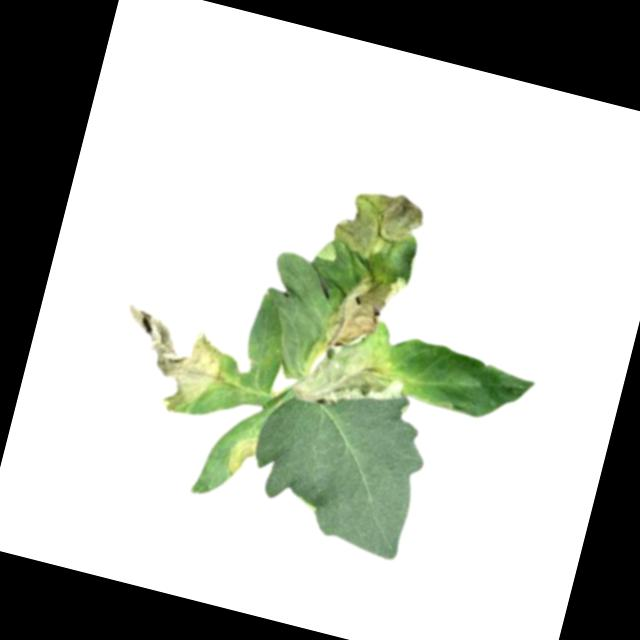Late_blight: (104, 300, 238, 424), (289, 306, 421, 425), (318, 176, 430, 278), (338, 265, 409, 326), (222, 431, 260, 481)
healthy: (237, 364, 439, 564)
